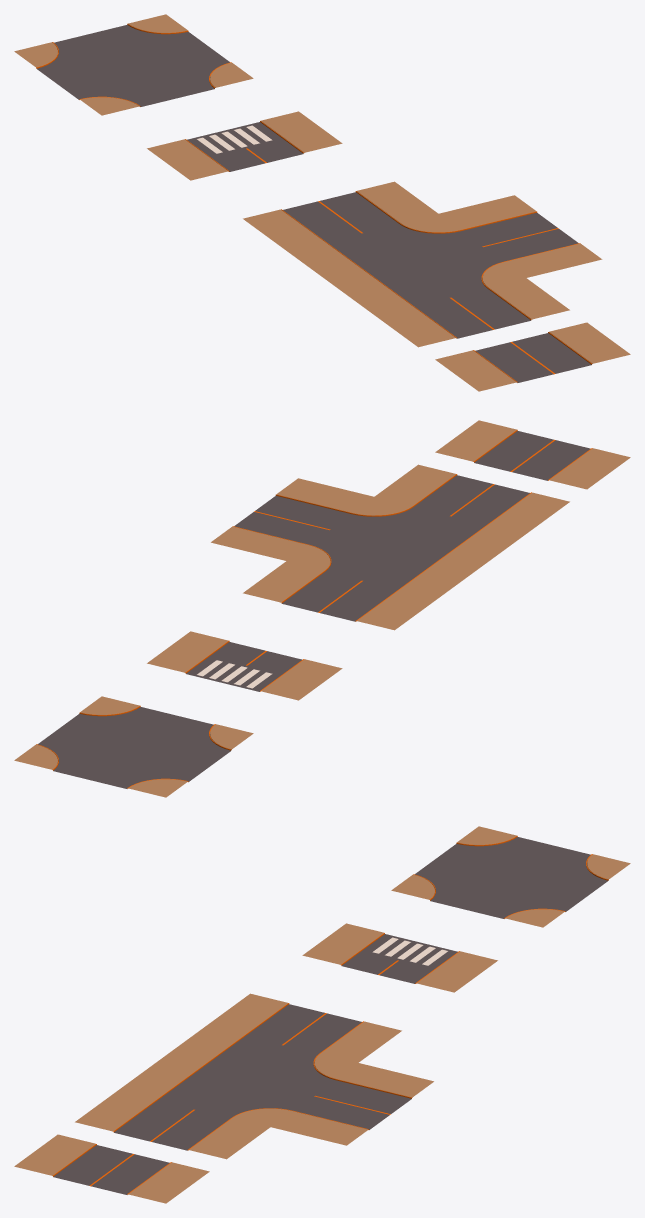
File: Road_complete2.fbx
3 views of the same model, one above another, from view 1: azimuth 30°, elevation 25°; view 2: azimuth 150°, elevation 25°; view 3: azimuth 330°, elevation 25° (orthographic).
Visible parts, largest first — view 1: Road.01_h.007, Road.01_h.006, Road.01_h.001, Road.01_h.003; view 2: Road.01_h.007, Road.01_h.006, Road.01_h.001, Road.01_h.003; view 3: Road.01_h.007, Road.01_h.006, Road.01_h.001, Road.01_h.003.
Boxes of the visible parts, bbox=[...] form: Road.01_h.007: bbox=[243, 181, 602, 347]; Road.01_h.006: bbox=[14, 14, 253, 115]; Road.01_h.001: bbox=[435, 322, 630, 391]; Road.01_h.003: bbox=[147, 111, 342, 180]; Road.01_h.007: bbox=[211, 464, 569, 630]; Road.01_h.006: bbox=[14, 696, 253, 797]; Road.01_h.001: bbox=[435, 420, 630, 489]; Road.01_h.003: bbox=[147, 631, 342, 700]; Road.01_h.007: bbox=[75, 993, 433, 1159]; Road.01_h.006: bbox=[391, 826, 630, 927]; Road.01_h.001: bbox=[14, 1134, 209, 1203]; Road.01_h.003: bbox=[302, 923, 497, 992].
Size of the model in its own units: 2400 by 8469 by 10.14.
